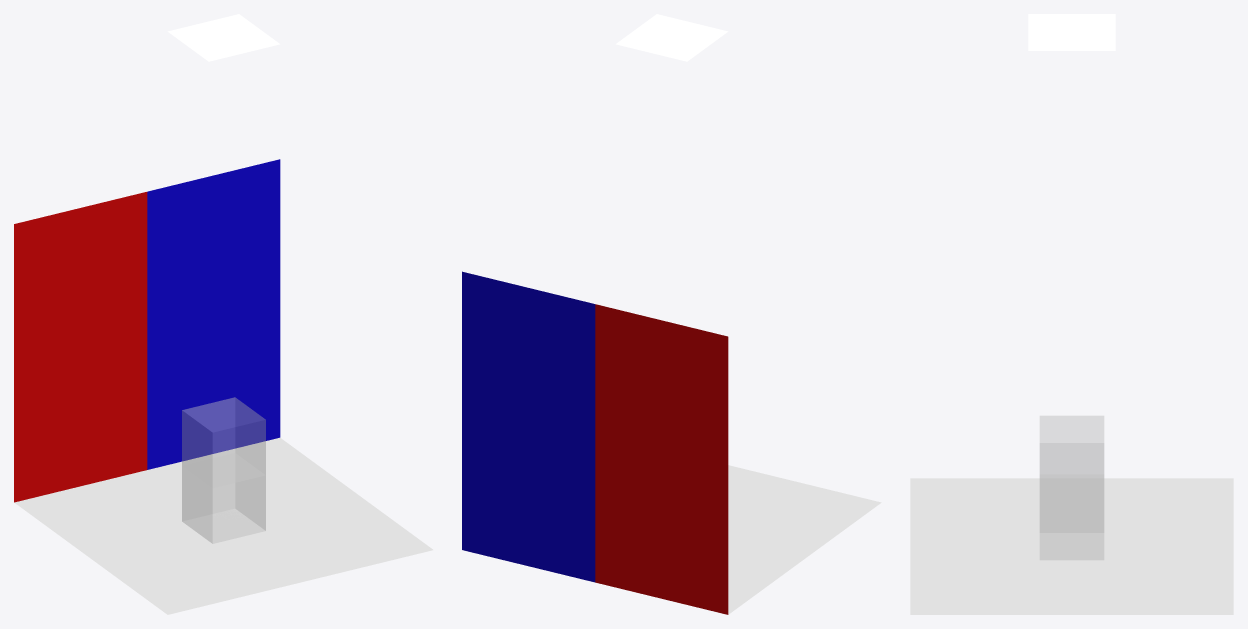
File: glass_test.gltf
3 views of the same model, side by side, from view 1: azimuth 30°, elevation 25°; view 2: azimuth 150°, elevation 25°; view 3: azimuth 270°, elevation 25° (orthographic). The views are drawn at different scales.
Visible parts, largest first — view 1: Plane.001, Plane, Cube.001, Cube, Plane.002; view 2: Plane.001, Plane, Plane.002; view 3: Plane, Cube, Cube.001, Plane.002.
Part boxes in pixels (x1,y1,x2,y2): Plane.001: [14, 159, 280, 502]; Plane: [14, 437, 432, 614]; Cube.001: [182, 397, 265, 487]; Cube: [182, 453, 265, 543]; Plane.002: [167, 14, 279, 61]; Plane.001: [462, 271, 728, 614]; Plane: [728, 465, 881, 614]; Plane.002: [616, 14, 728, 61]; Plane: [910, 478, 1233, 614]; Cube: [1040, 474, 1103, 559]; Cube.001: [1040, 416, 1103, 501]; Plane.002: [1028, 14, 1115, 50].
Size of the model in its own units: 2 by 3.51 by 2.
